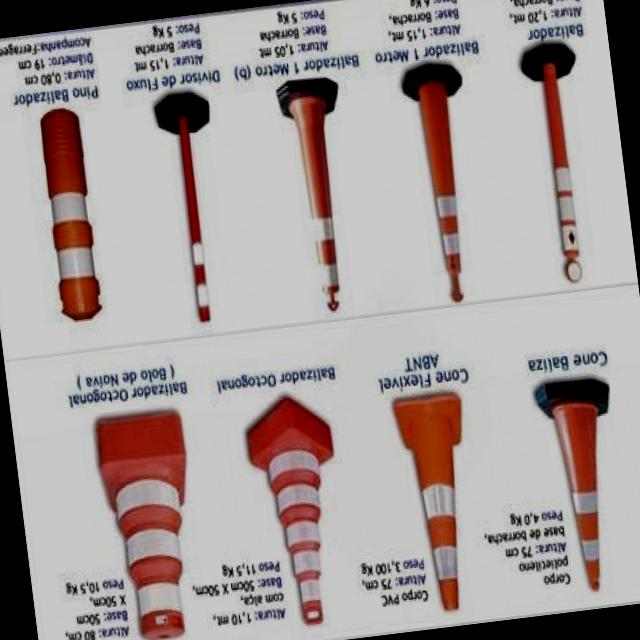cone: (533, 374, 639, 602), (388, 398, 486, 612)
